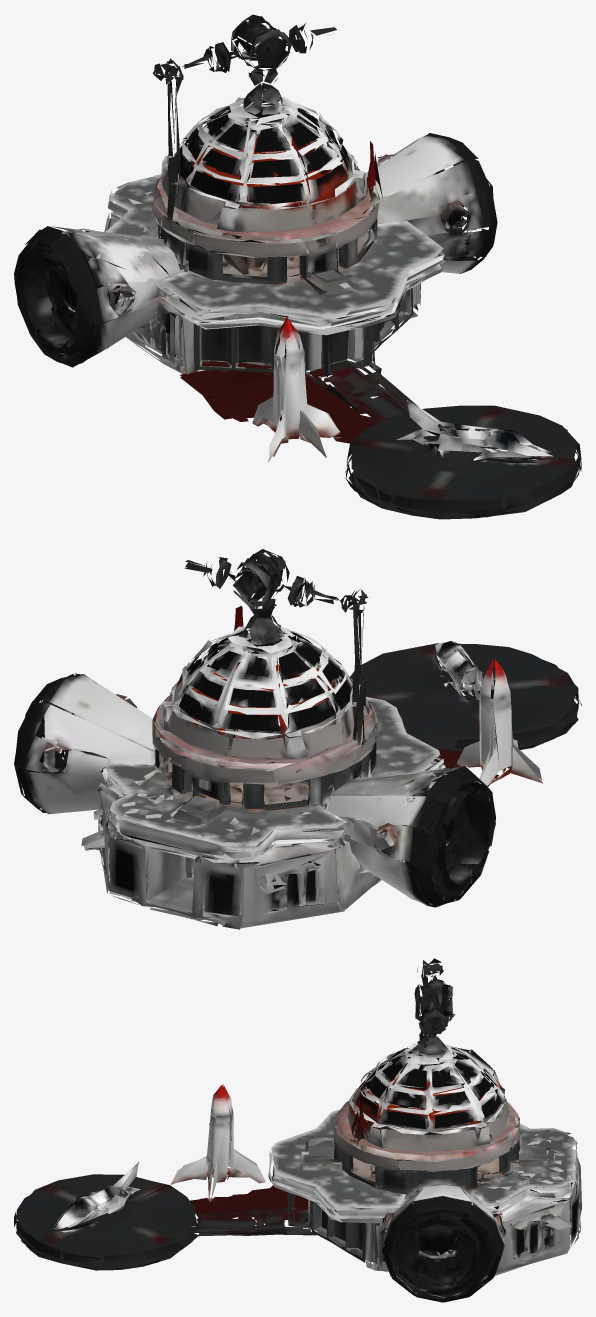
Rendered from martian-base.glb.
The picture shows the model from 3 angles, top to bottom: view 1: azimuth 30°, elevation 25°; view 2: azimuth 150°, elevation 25°; view 3: azimuth 270°, elevation 25°; orthographic projection. The views are drawn at different scales.
Parts seen in each view (by area): view 1: low; view 2: low; view 3: low.
Part boxes in pixels (x1,y1,x2,y2): low: [14, 14, 581, 519]; low: [14, 549, 581, 929]; low: [14, 958, 581, 1302].
Bounding box in the file's own units: 0.7091 × 0.4849 × 1.
1 material, 1 textured.
